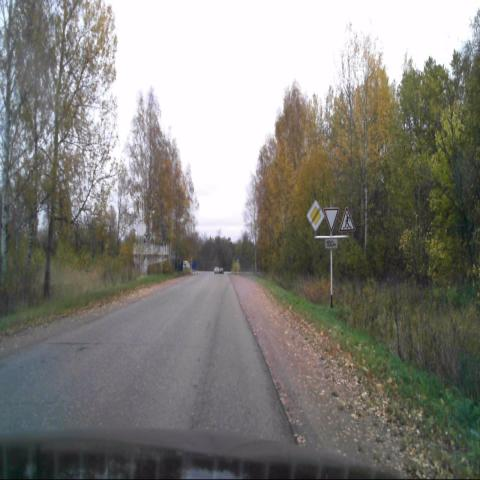2_2: (306, 198, 325, 232)
